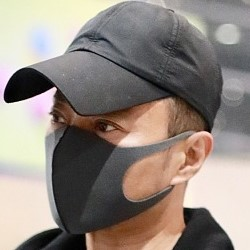mask: (27, 114, 195, 233)
